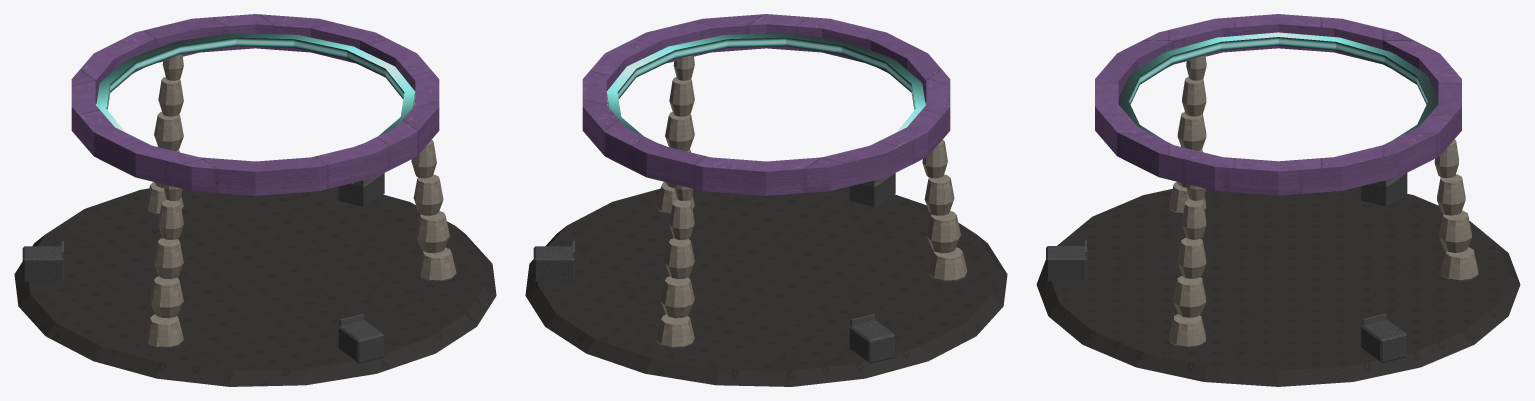
File: warpgate_hlx.obj
The picture shows the model from 3 angles, left to right: view 1: azimuth 30°, elevation 25°; view 2: azimuth 150°, elevation 25°; view 3: azimuth 270°, elevation 25°; orthographic projection.
Parts seen in each view (by area): view 1: warpgate_hlx; view 2: warpgate_hlx; view 3: warpgate_hlx.
Boxes of the visible parts, bbox=[...] form: warpgate_hlx: bbox=[14, 14, 496, 386]; warpgate_hlx: bbox=[525, 14, 1007, 386]; warpgate_hlx: bbox=[1036, 14, 1520, 386].
Size of the model in its own units: 40 by 17.5 by 40.
Materials: 1 (1 with a texture image).
